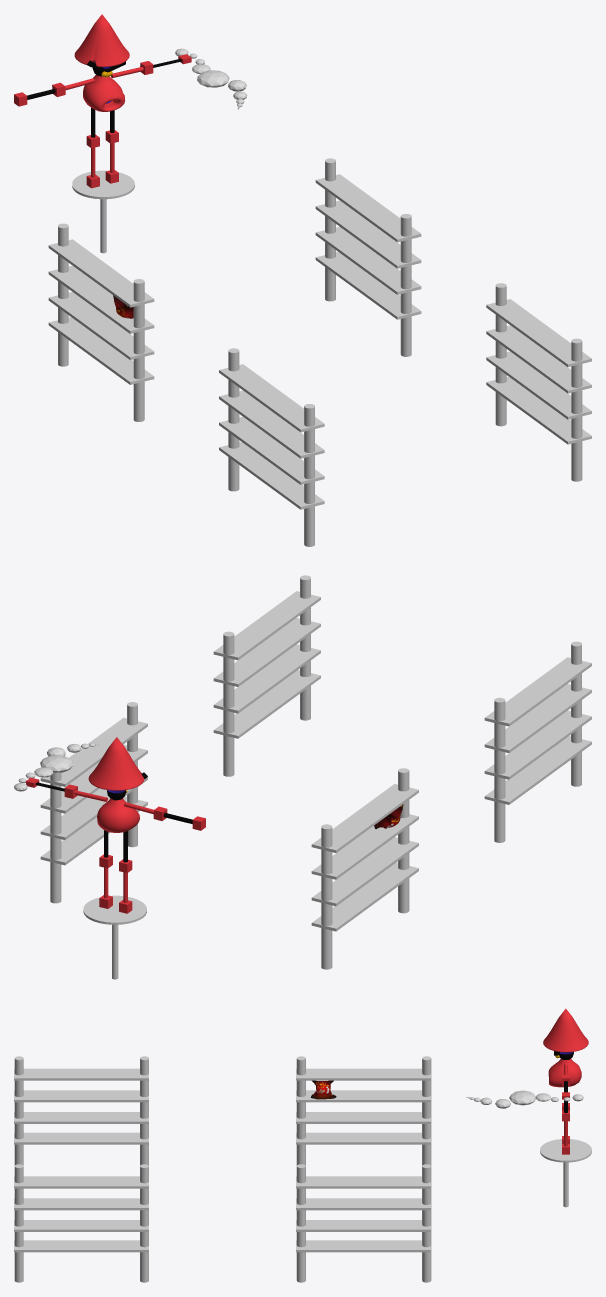
Rendered from jjaro.fbx.
3 renders of one model, top to bottom at view 1: azimuth 30°, elevation 25°; view 2: azimuth 150°, elevation 25°; view 3: azimuth 270°, elevation 25°, orthographic. The views are drawn at different scales.
Visible parts, largest first — view 1: Cube.009, Cube.007, Cube.008, Cube.006, Cube.004, Circle, Icosphere.002; view 2: Cube.008, Cube.009, Cube.006, Cube.007, Cube.004, Circle, Icosphere.002; view 3: Cube.007, Cube.009, Cube.008, Cube.006, Cube.004, Circle, Icosphere.002.
Boxes of the visible parts, <box> form: Cube.009: <box>486,283,591,481</box>; Cube.007: <box>315,158,421,356</box>; Cube.008: <box>219,348,324,546</box>; Cube.006: <box>48,223,154,421</box>; Cube.004: <box>74,14,129,111</box>; Circle: <box>72,170,134,199</box>; Icosphere.002: <box>175,48,247,109</box>; Cube.008: <box>484,641,591,842</box>; Cube.009: <box>213,575,320,776</box>; Cube.006: <box>311,768,418,969</box>; Cube.007: <box>40,702,147,903</box>; Cube.004: <box>88,737,144,832</box>; Circle: <box>83,895,146,924</box>; Icosphere.002: <box>14,743,100,791</box>; Cube.007: <box>296,1164,431,1282</box>; Cube.009: <box>14,1164,148,1282</box>; Cube.008: <box>14,1056,148,1165</box>; Cube.006: <box>296,1056,431,1165</box>; Cube.004: <box>543,1008,588,1087</box>; Circle: <box>540,1139,591,1162</box>; Icosphere.002: <box>466,1090,583,1108</box>.
Bounding box in the file's own units: 30.43 × 25.83 × 63.21.
Materials: 5 (1 with a texture image).
